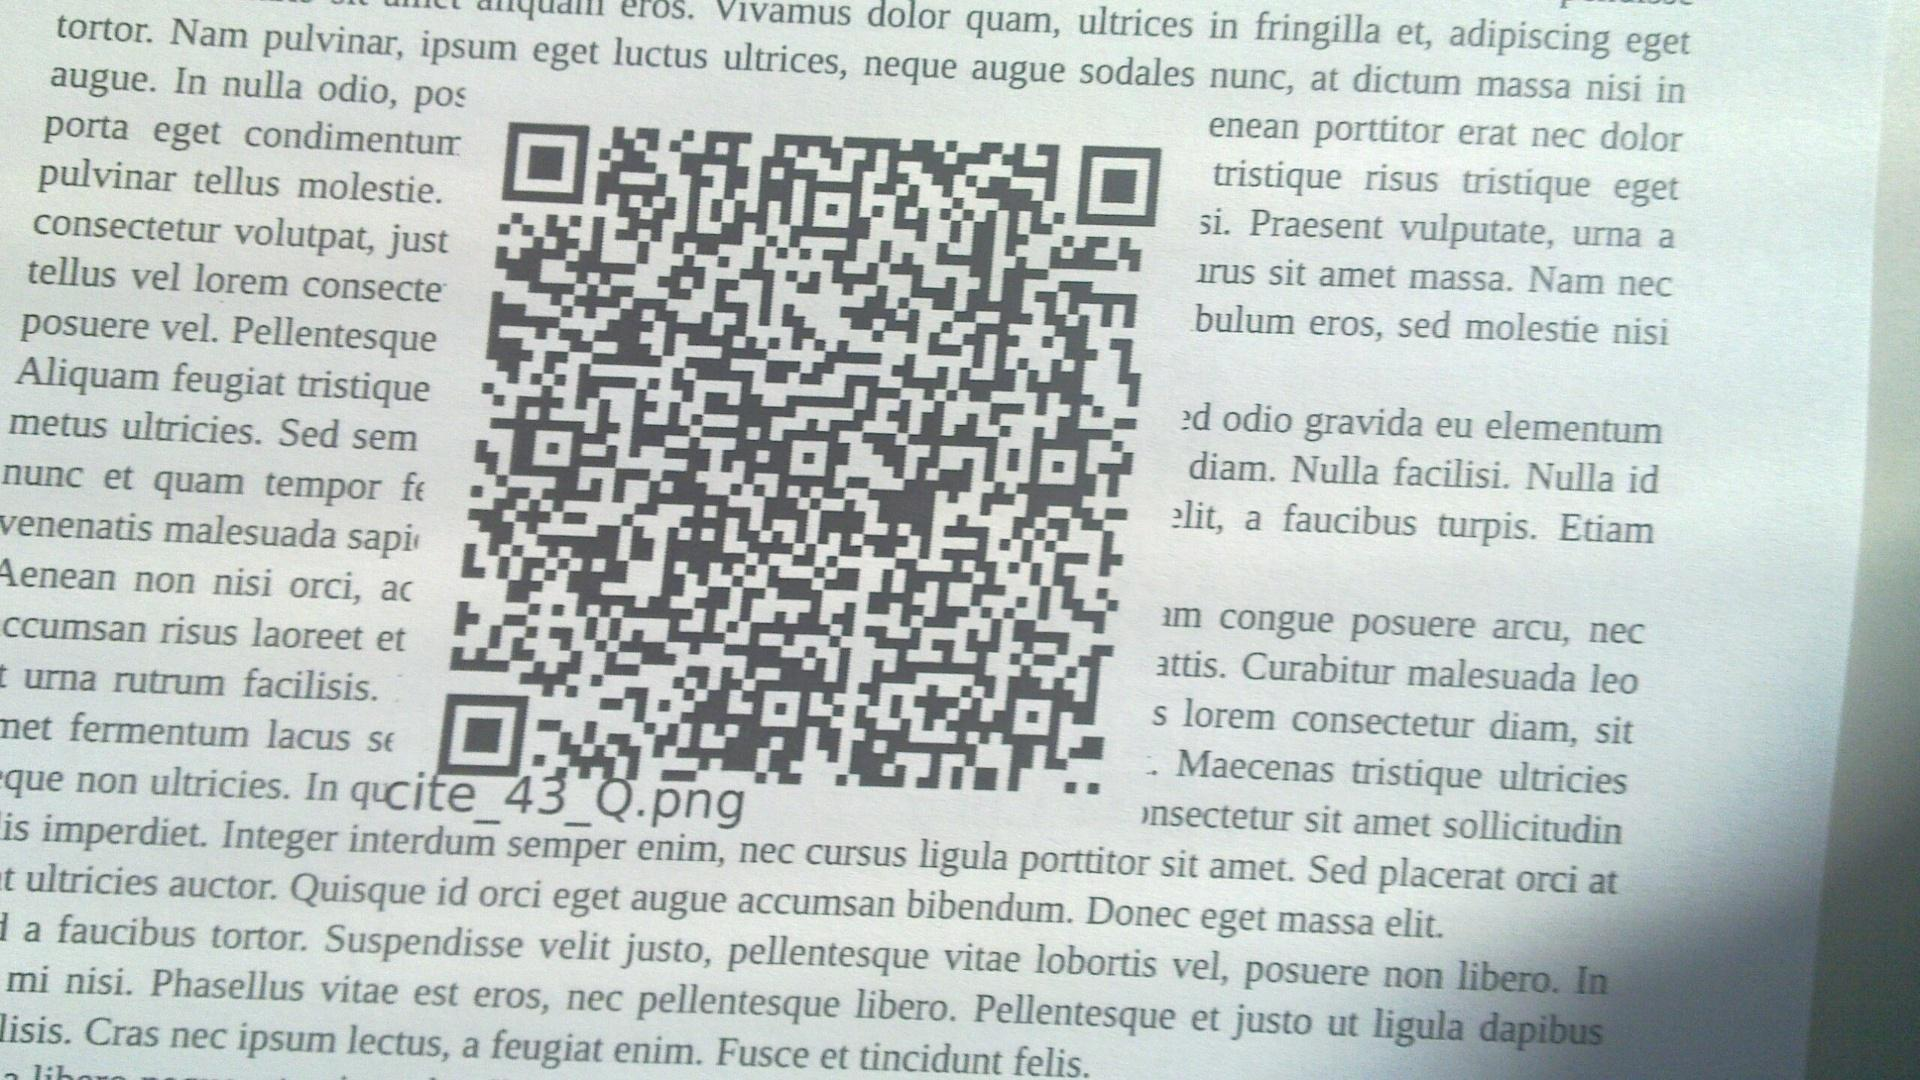Finder pattern: (436, 687, 530, 781), (1069, 140, 1164, 231), (498, 117, 596, 204)
